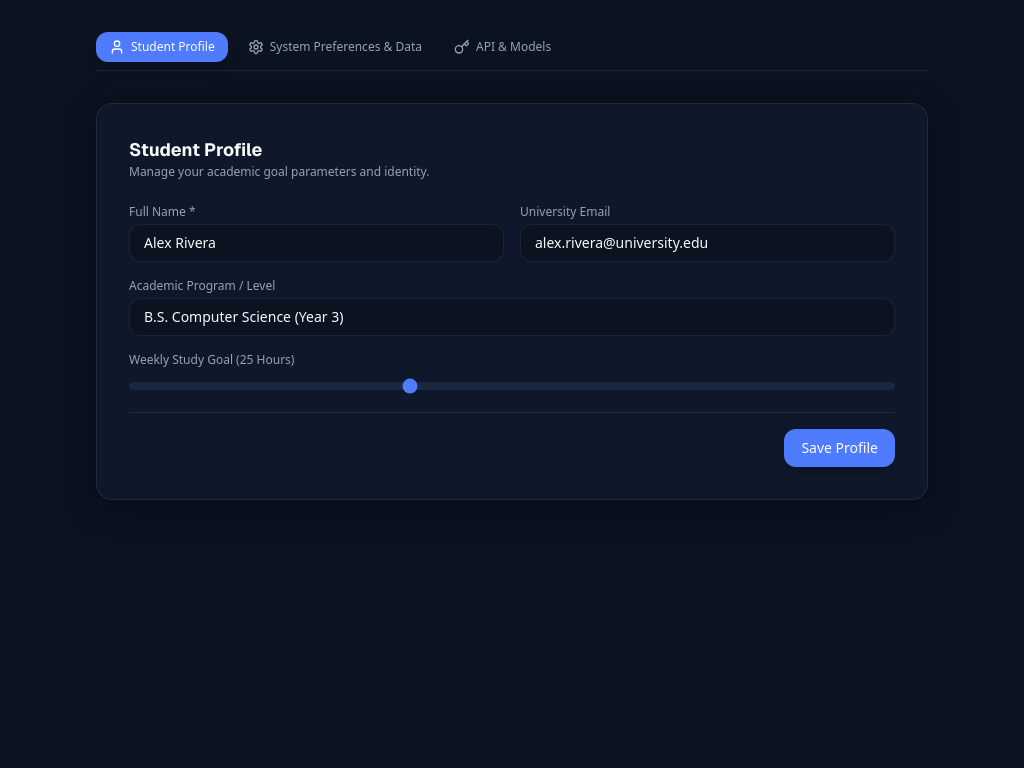
WP-05 Settings legacy-import integration › keeps complete backup export, legacy import, and Version 2 restore separate
Click the button "System Preferences & Data". click: coordinates (335, 47)
box: [236, 33, 434, 61]
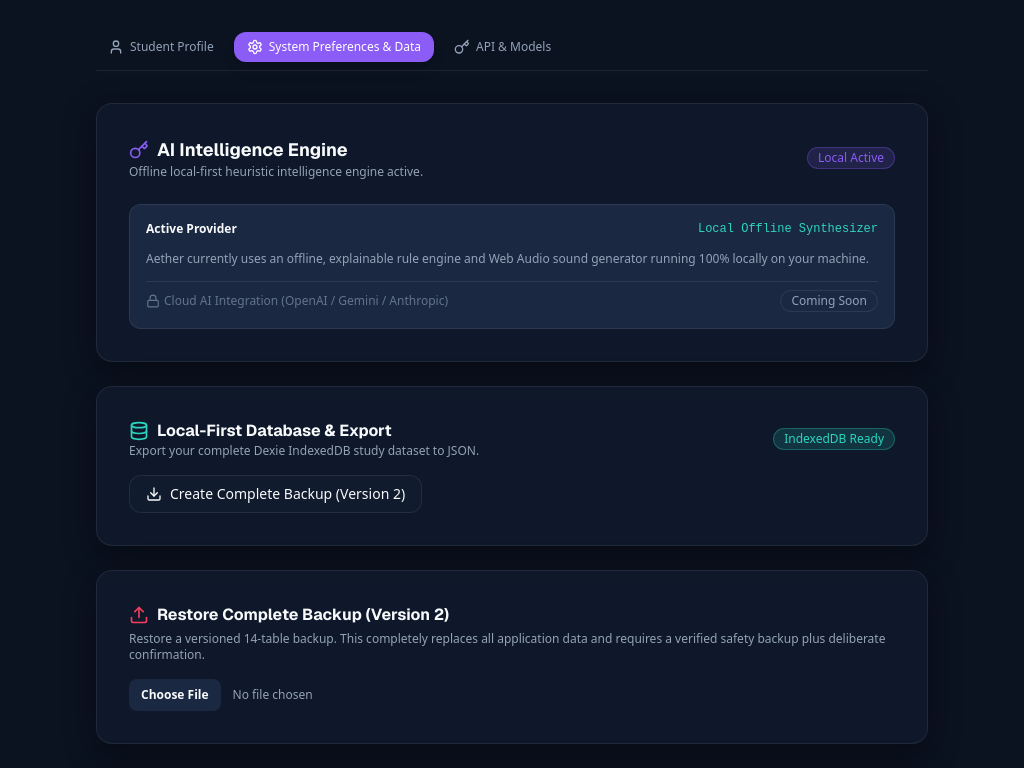
Now the button "Create Complete Backup (Version 2)" is shown, box [129, 474, 422, 512]
Now the heading "Restore Complete Backup (Version 2)" is shown, box [129, 604, 449, 624]
